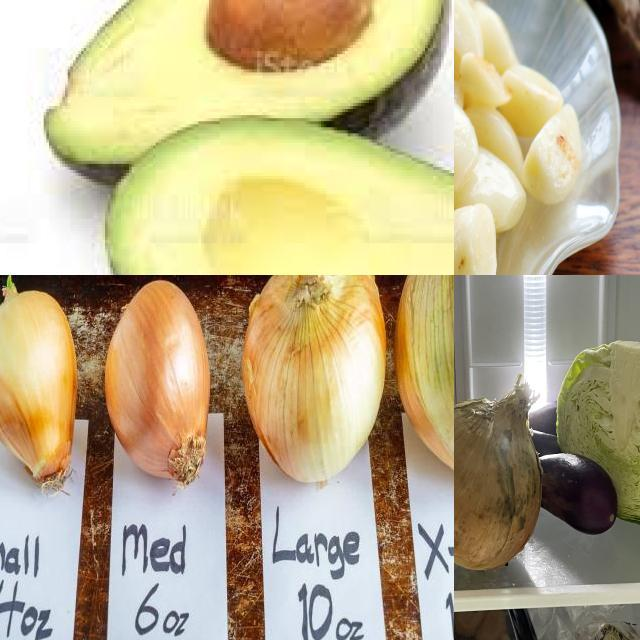cabbage: (559, 345, 640, 527)
eggplant: (534, 454, 619, 538), (531, 396, 563, 433), (529, 429, 559, 457)
garlic: (455, 1, 589, 276)
onion: (241, 276, 388, 491), (104, 276, 213, 488), (455, 387, 545, 573), (1, 284, 78, 489), (394, 276, 455, 485)
